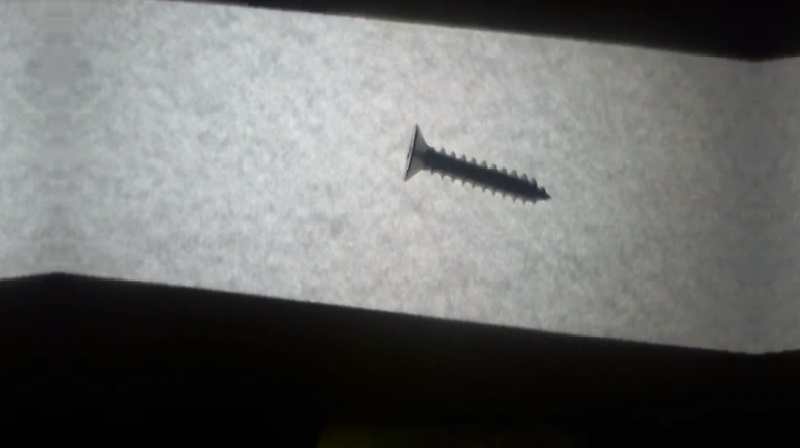S001: (401, 121, 555, 213)
